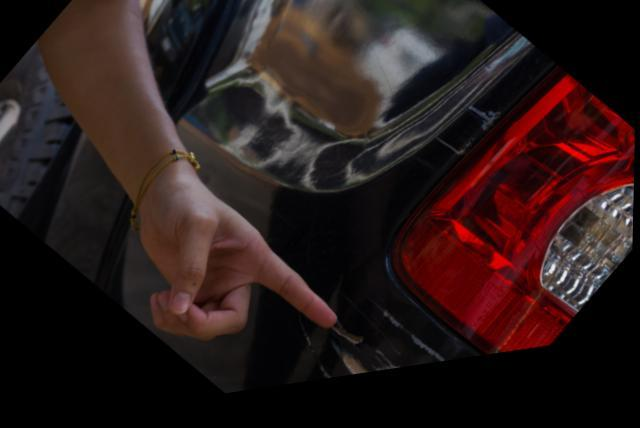scratch: (295, 312, 451, 390)
